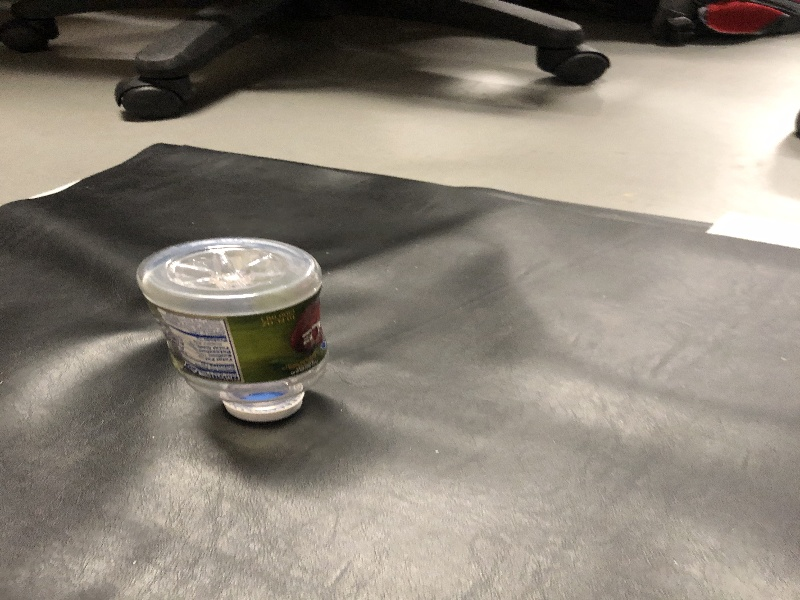plastic: (129, 230, 345, 446)
